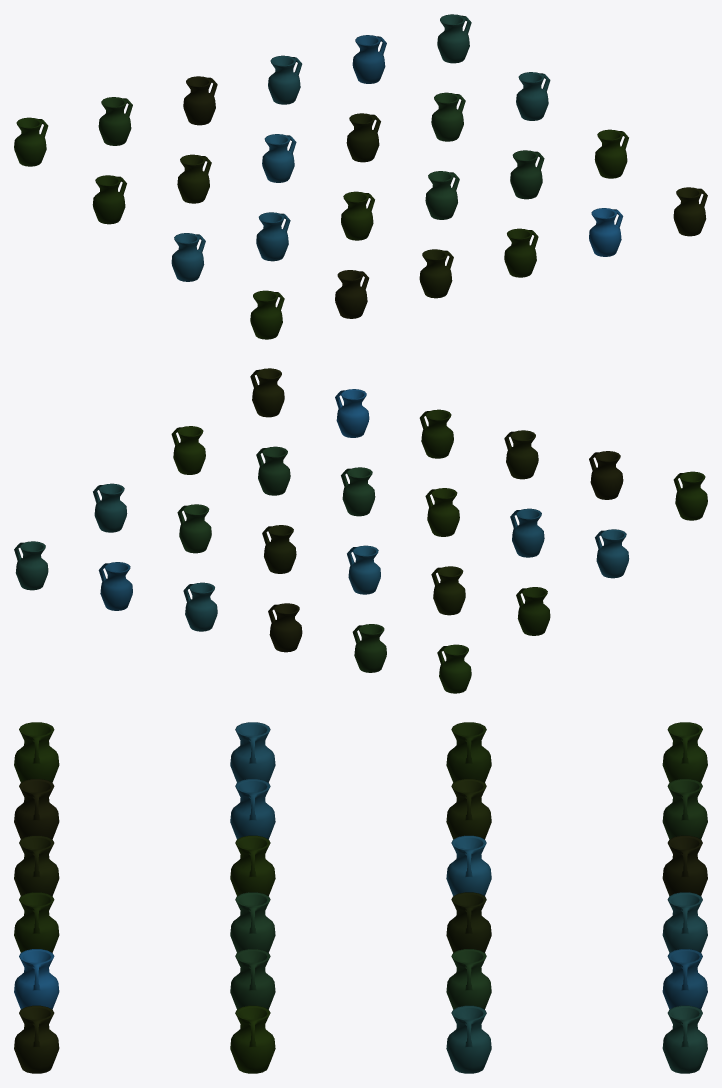
The model's file is vase_test1.fbx.
3 views of the same model, one above another, from view 1: azimuth 30°, elevation 25°; view 2: azimuth 150°, elevation 25°; view 3: azimuth 270°, elevation 25° (orthographic). The views are drawn at different scales.
Visible parts, largest first — view 1: MASH2_ReproMesh; view 2: MASH2_ReproMesh; view 3: MASH2_ReproMesh.
Boxes of the visible parts, x1,y1,x2,y2 form: MASH2_ReproMesh: (14,14,707,339); MASH2_ReproMesh: (14,368,707,693); MASH2_ReproMesh: (14,722,707,1073).
Size of the model in its own units: 56.22 by 4.62 by 54.14.
